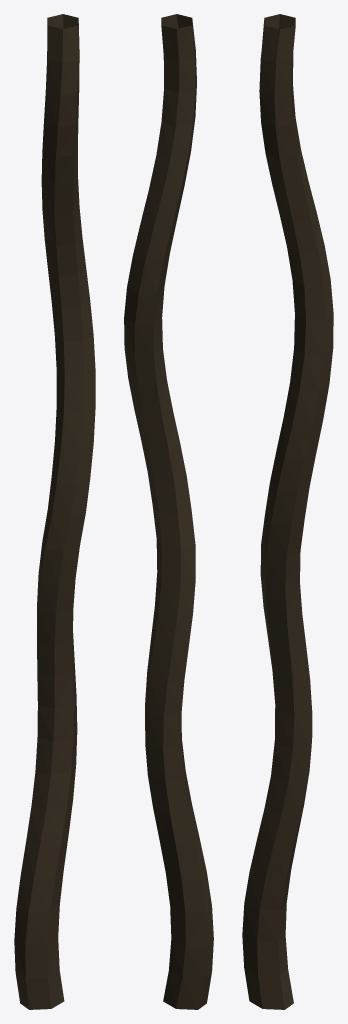
3 views of the same model, side by side, from view 1: azimuth 30°, elevation 25°; view 2: azimuth 150°, elevation 25°; view 3: azimuth 330°, elevation 25° (orthographic).
Visible parts, largest first — view 1: pCylinder449; view 2: pCylinder449; view 3: pCylinder449.
Part boxes in pixels (left/top/right/bottom): pCylinder449: left=14, top=14, right=95, bottom=1009; pCylinder449: left=124, top=14, right=213, bottom=1009; pCylinder449: left=242, top=14, right=333, bottom=1009.
Size of the model in its own units: 2.46 by 30 by 1.8.
